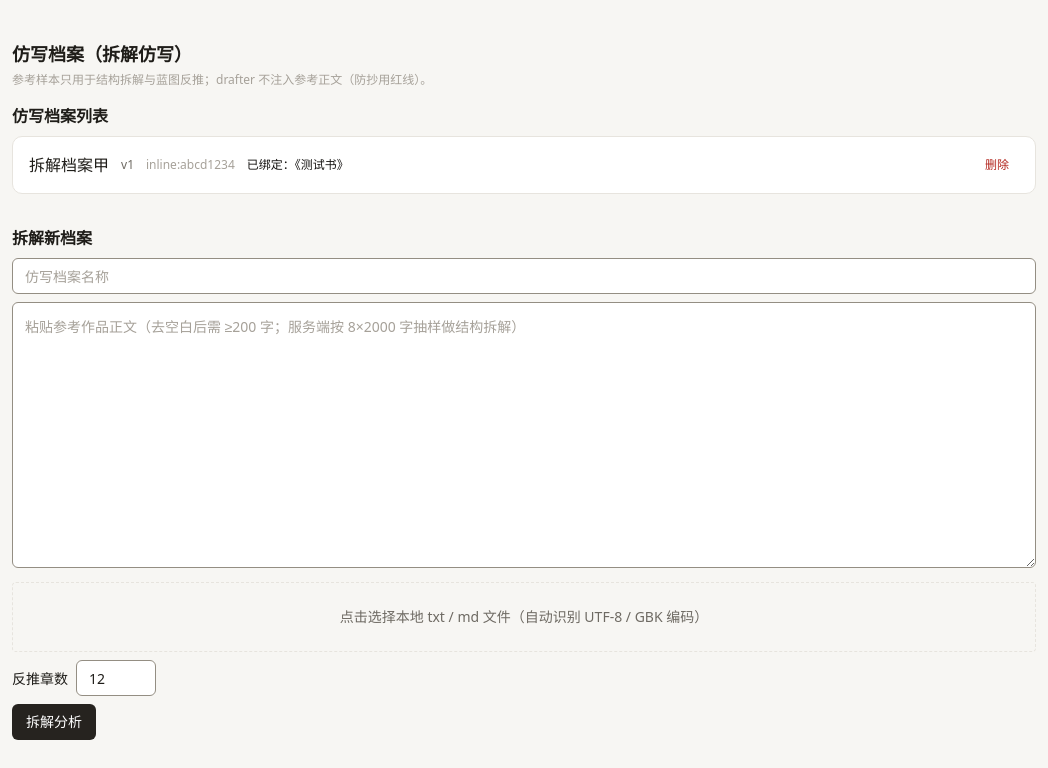
Scenario: ImitationProfilesSection（D4-T5） › 列表渲染档案与 sourcePath；删除升 L2：点取消收簇且未发 DELETE
The width and height of the screenshot is (1048, 768).
Expected: the text "拆解档案甲" is shown, [29,153,109,177]
Expected: the text "inline:abcd1234" is shown, [146,157,235,173]
Click the button "删除" at (997, 165), box [975,149,1019,181]
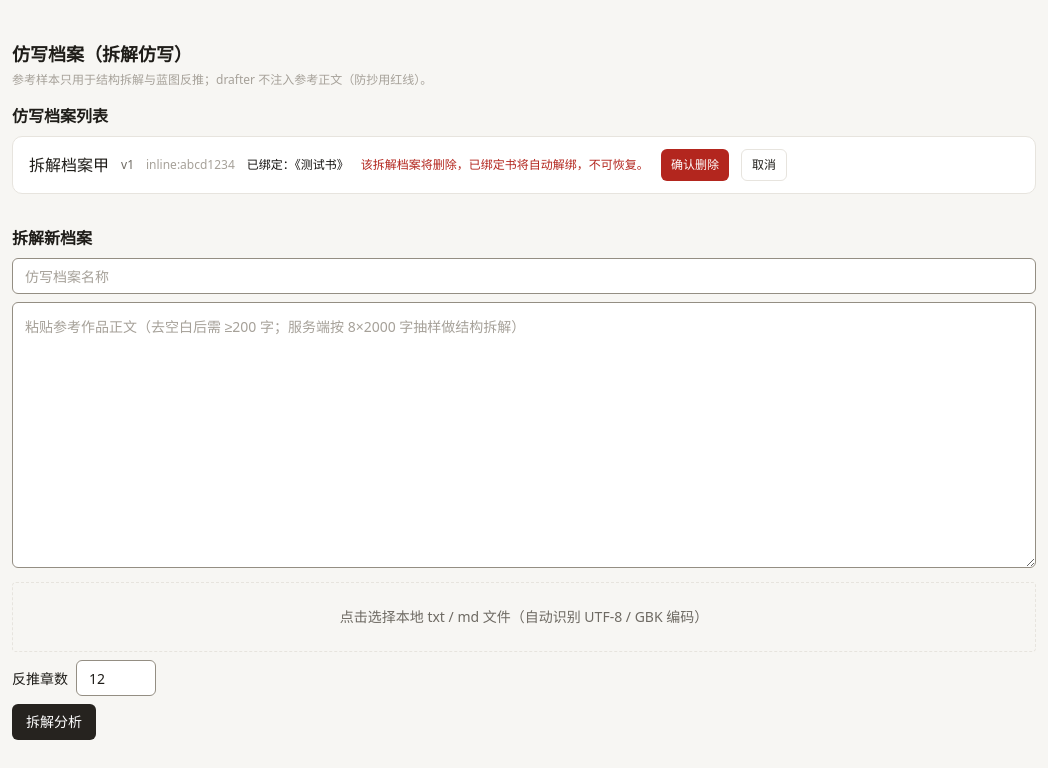
Result: the text "该拆解档案将删除，已绑定书将自动解绑，不可恢复。" is shown at [361,157,649,173]
Click the button "取消" at (764, 165), box [741,149,787,181]
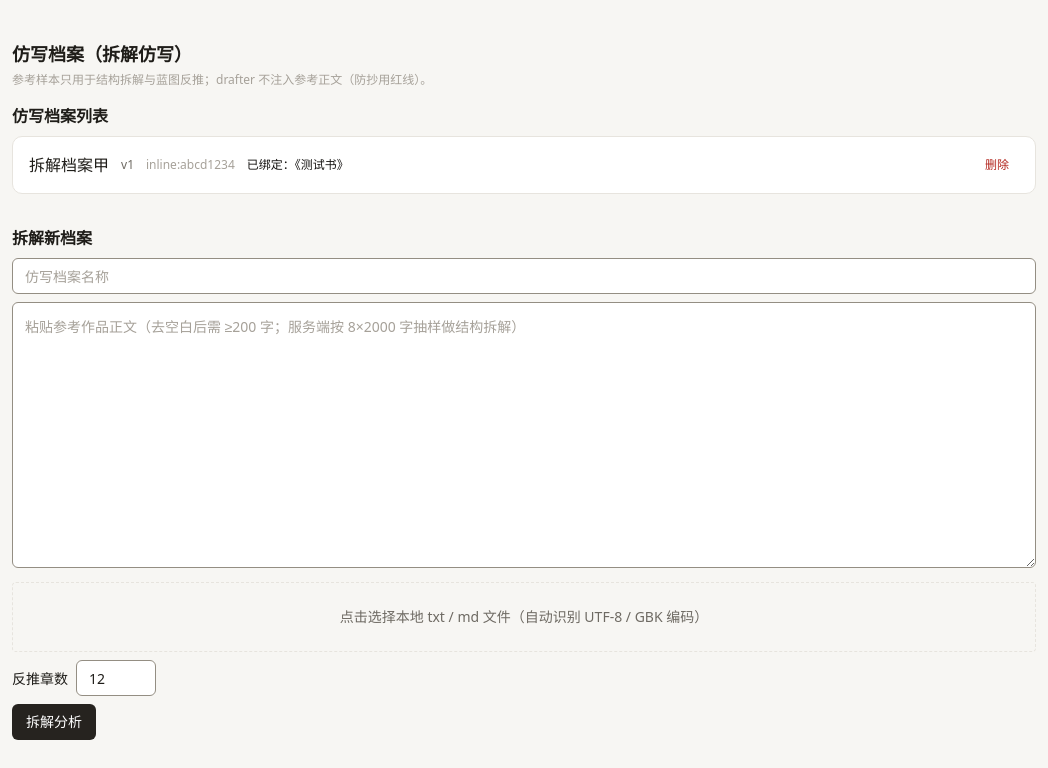
Result: the text "该拆解档案将删除，已绑定书将自动解绑，不可恢复。" is gone
